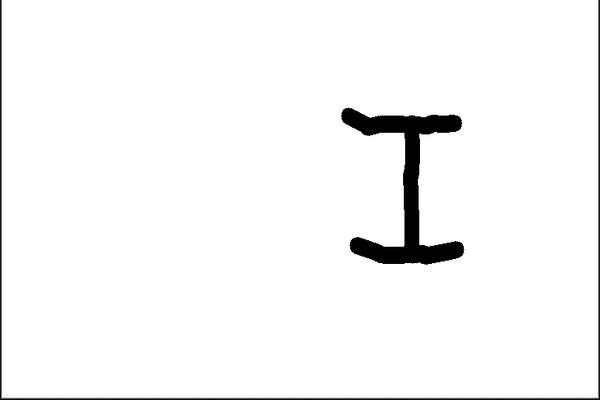i: (328, 99, 477, 261)
